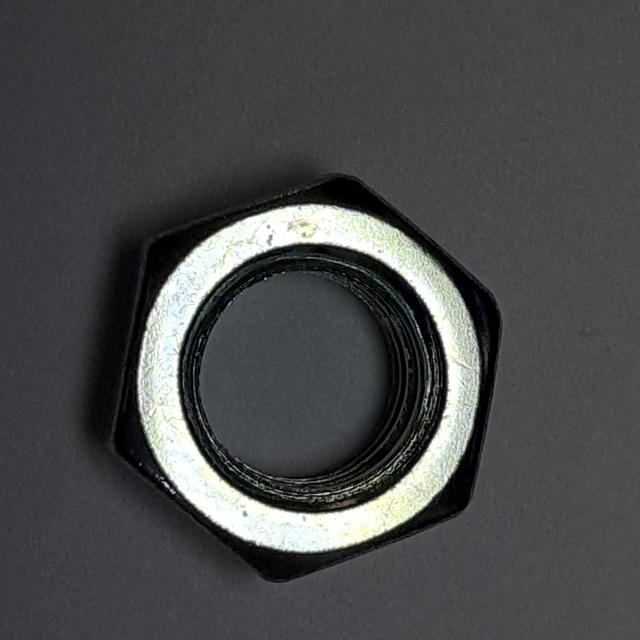Excellent: (92, 158, 515, 593)
